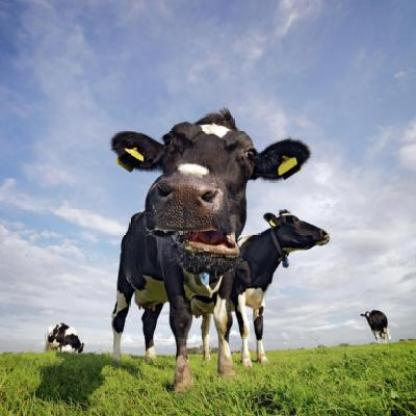lower: (180, 245, 236, 272)
mouth: (146, 173, 240, 274)
upper: (158, 186, 210, 216)
